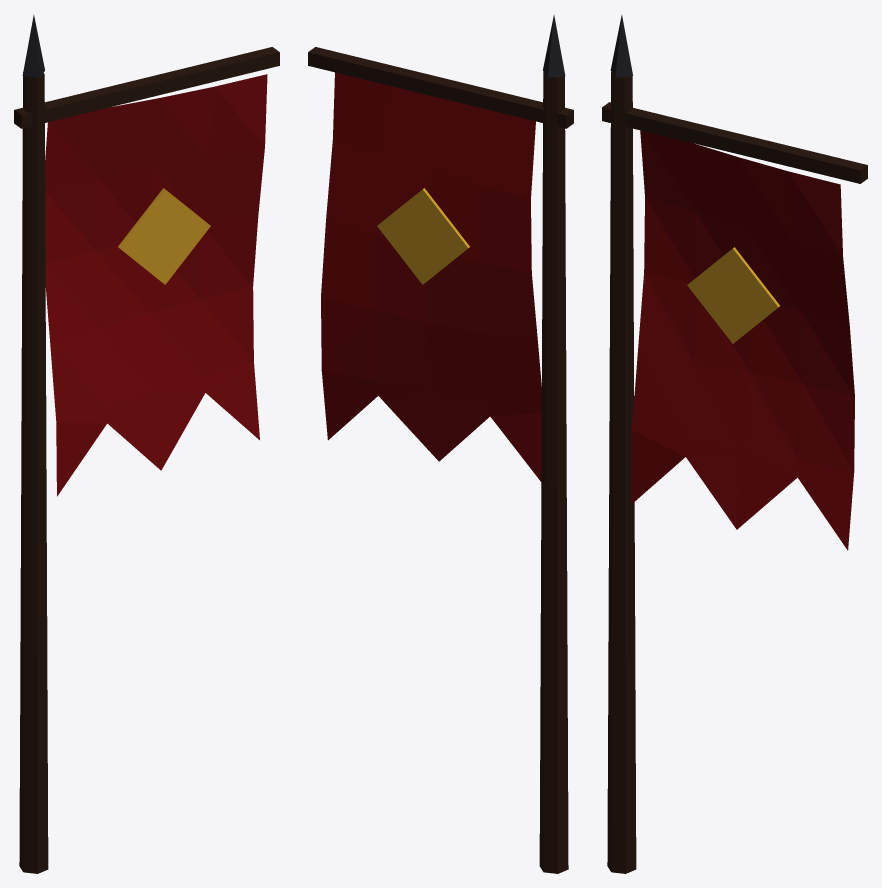
The model's file is estandarte.fbx.
3 views of the same model, side by side, from view 1: azimuth 30°, elevation 25°; view 2: azimuth 150°, elevation 25°; view 3: azimuth 330°, elevation 25° (orthographic).
Visible parts, largest first — view 1: estandarte; view 2: estandarte; view 3: estandarte.
Part boxes in pixels (x1=…): estandarte: x1=14, y1=14, x2=279, y2=873; estandarte: x1=308, y1=14, x2=573, y2=873; estandarte: x1=602, y1=14, x2=867, y2=873.
Size of the model in its own units: 1.6 by 5.05 by 0.22.
